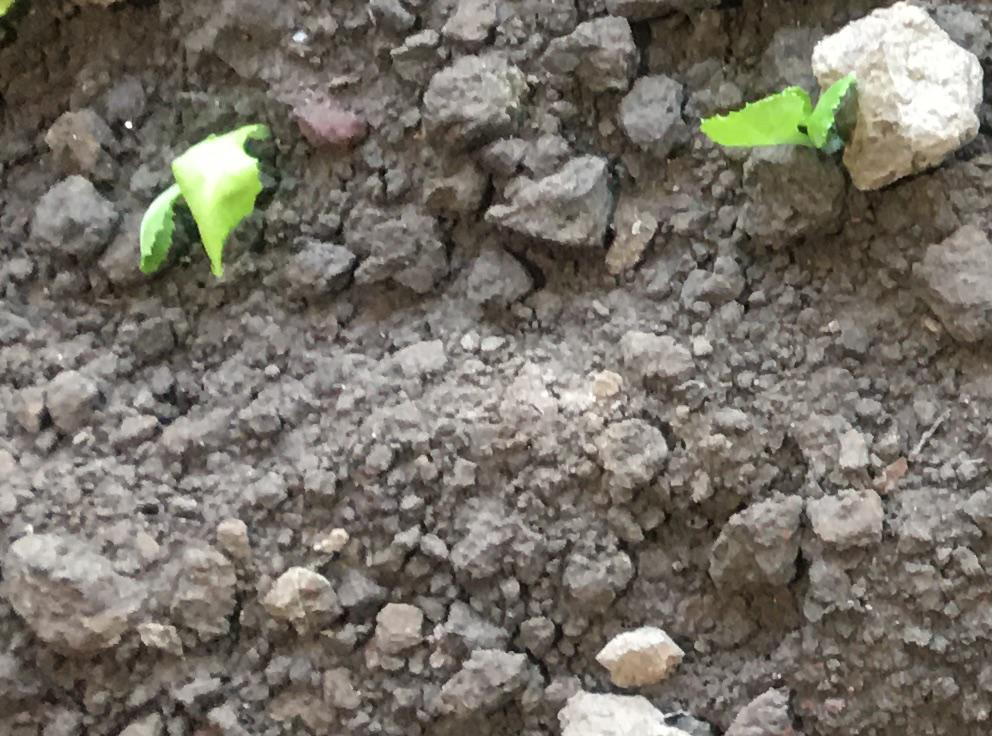block: (812, 3, 987, 194), (4, 526, 135, 660), (491, 156, 608, 246), (912, 215, 992, 345), (425, 49, 520, 147), (30, 174, 123, 257), (545, 18, 638, 96)
